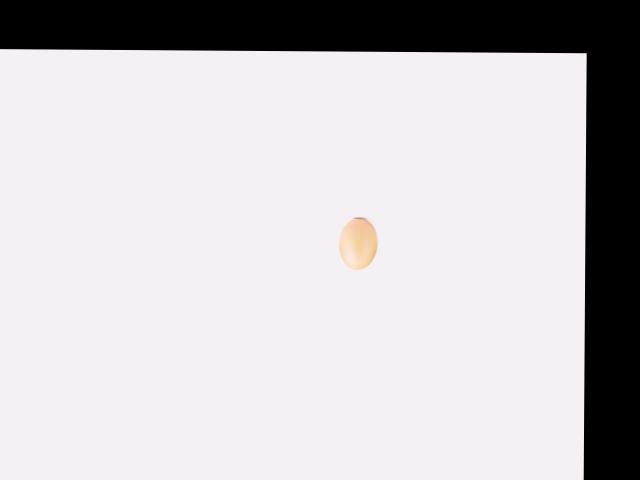egg: (339, 217, 378, 270)
